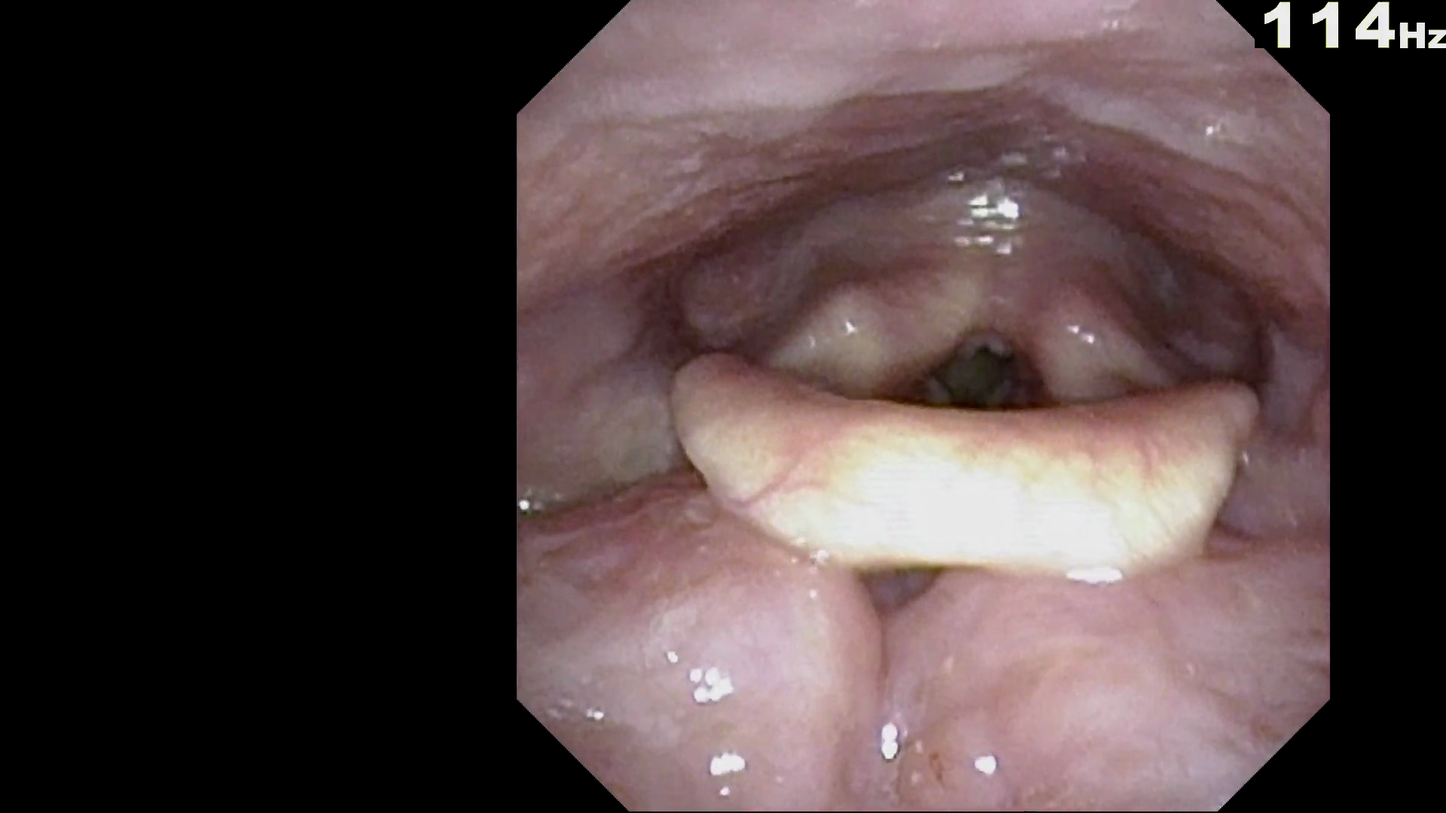epiglottis: (651, 327, 1268, 595)
trachea: (907, 306, 1054, 460)
